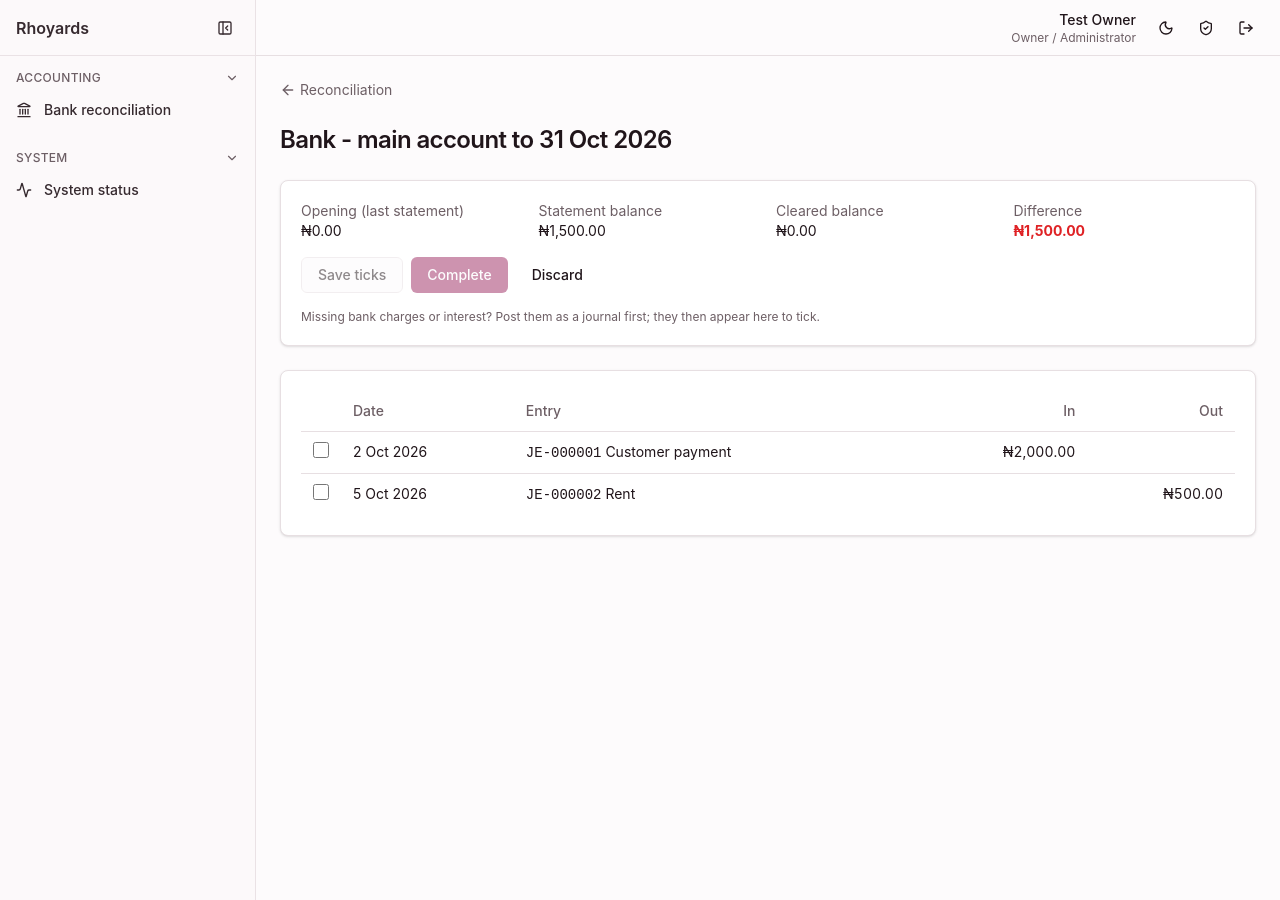
Test: bank reconciliation › shows the running difference as lines are ticked and completes only at nil
Check: the button "Complete" is disabled, box [411,257,508,293]
Click the checkbox named "Cleared: JE-000001 Customer payment": (321, 450) [313,442,329,458]
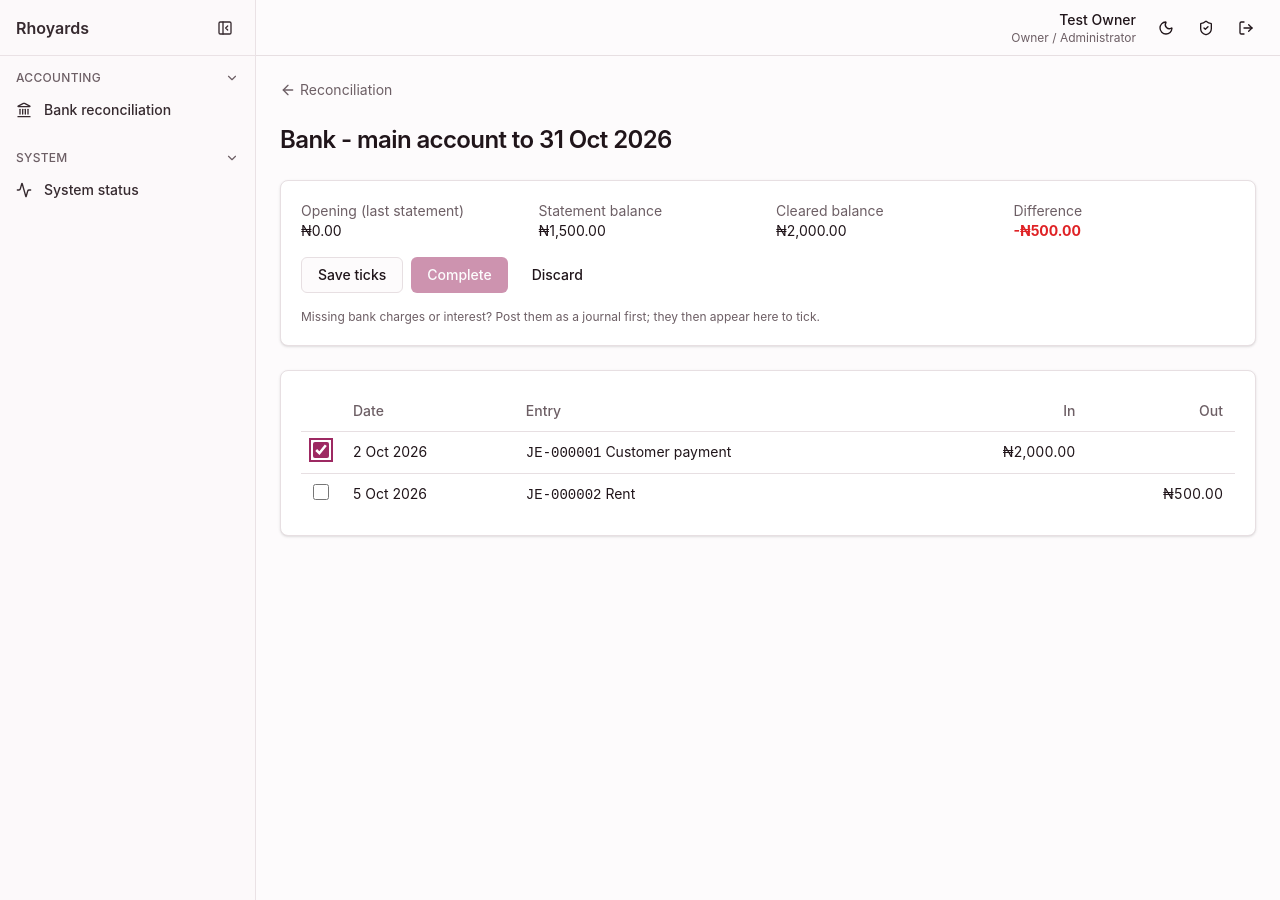
Check: the button "Complete" is disabled, box [411,257,508,293]
Click the checkbox named "Cleared: JE-000002 Rent": (321, 492) [313,484,329,500]
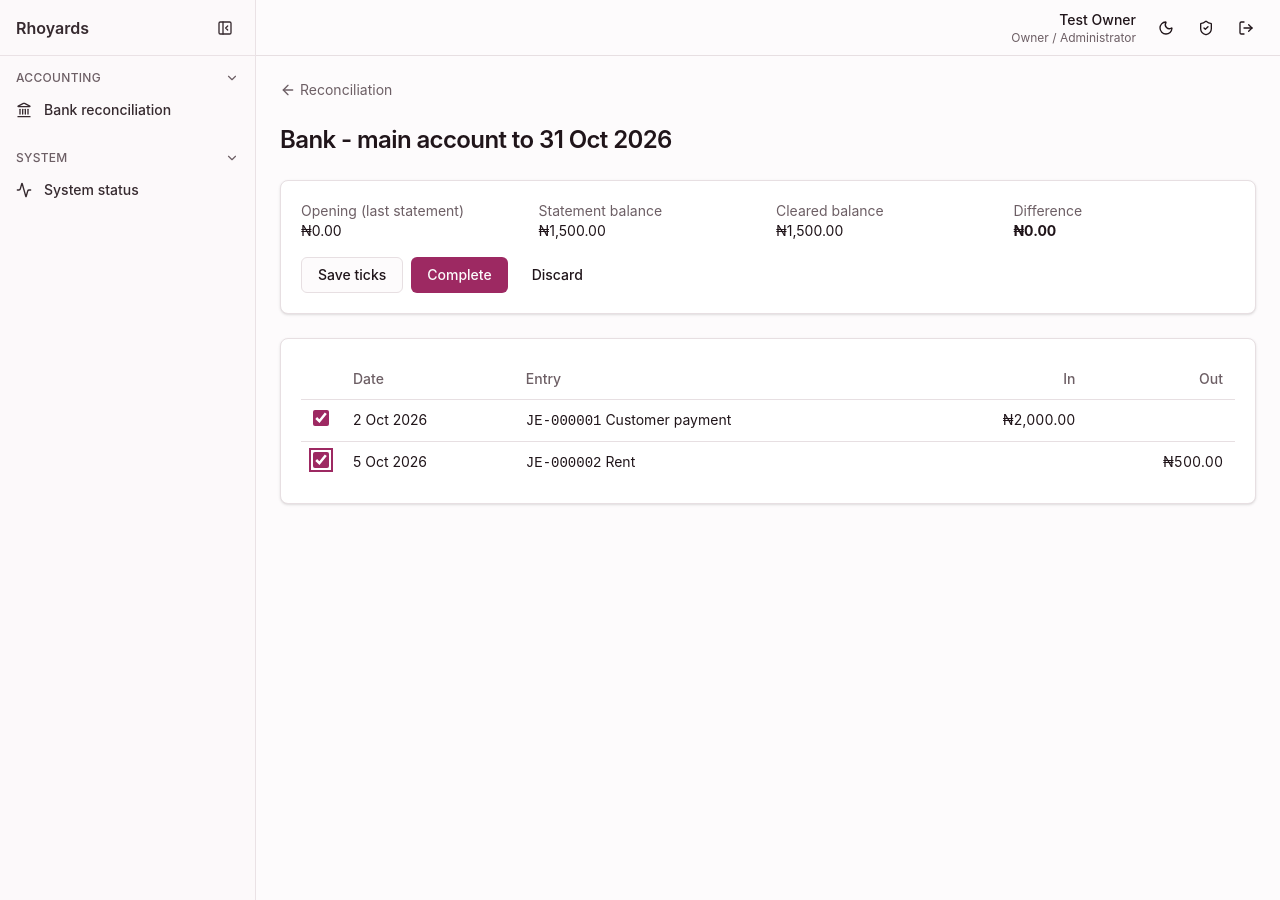
Check: the button "Complete" is enabled
Click the button "Complete": (460, 275) [411,257,508,293]
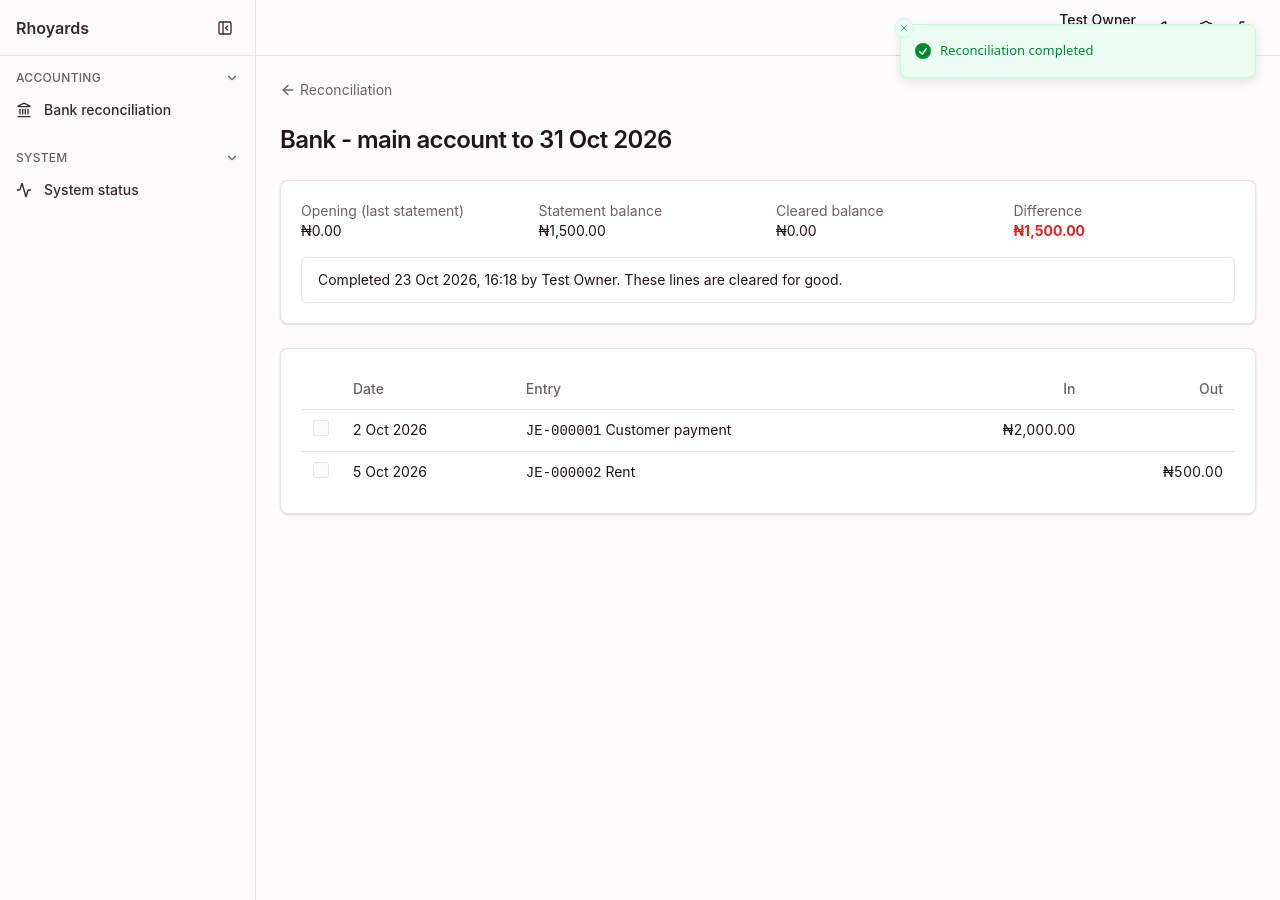
Check: the text "Completed 23 Oct 2026, 16:18 by Test Owner. These lines are cleared for good." is shown, box [301,257,1235,303]
